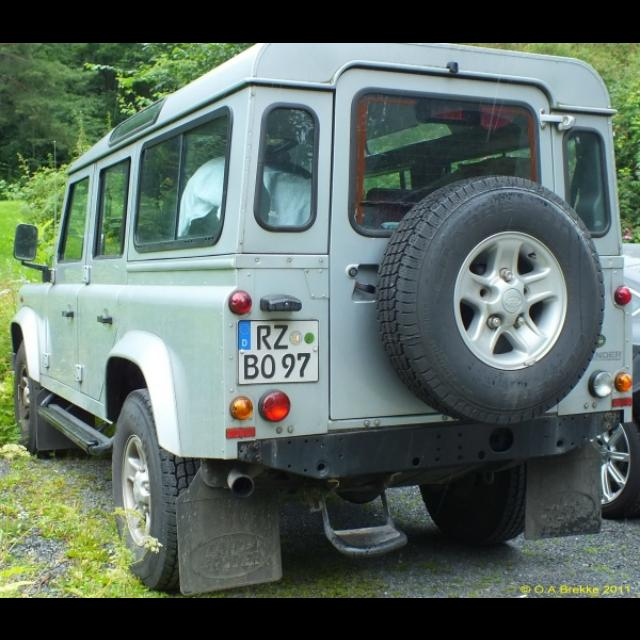d_license_plate: (236, 318, 316, 384)
